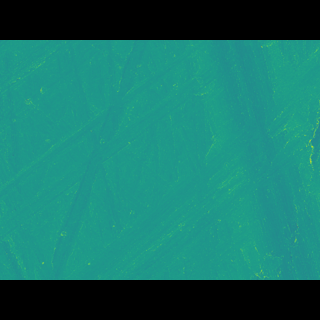Loch: (50, 69, 319, 250), (196, 69, 319, 249)
